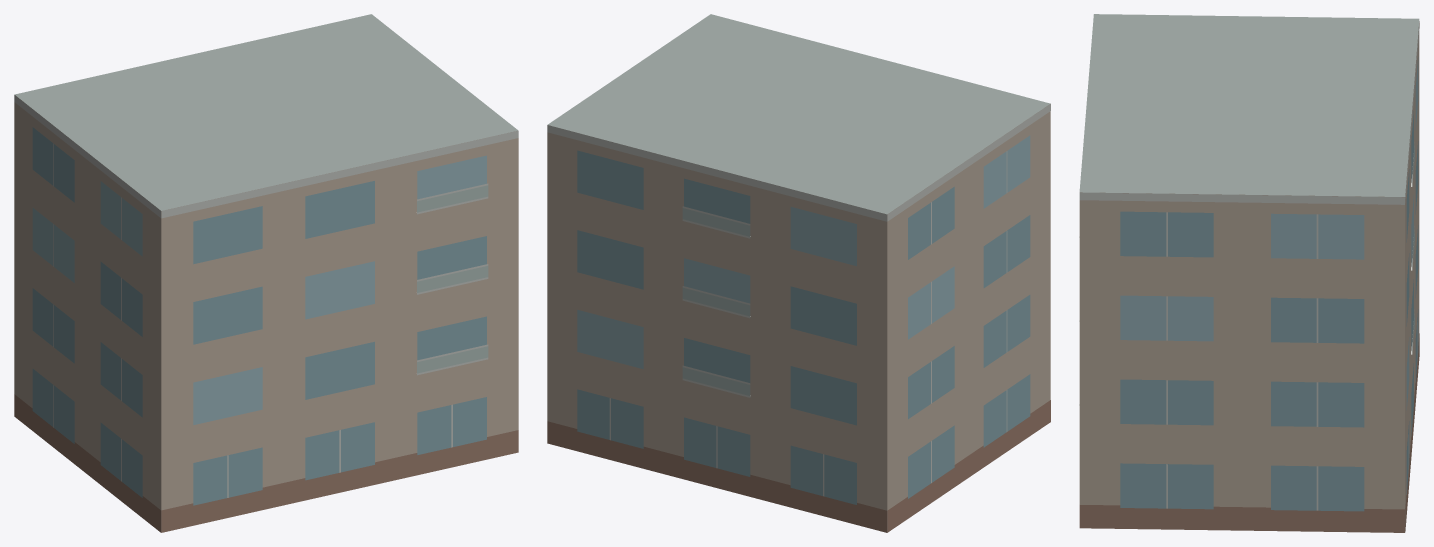
The model's file is survey-upis-32495578.glb.
3 renders of one model, left to right at view 1: azimuth 30°, elevation 25°; view 2: azimuth 150°, elevation 25°; view 3: azimuth 270°, elevation 25°, orthographic. The views are drawn at different scales.
Parts seen in each view (by area): view 1: survey-upis-32495578.tmp; view 2: survey-upis-32495578.tmp; view 3: survey-upis-32495578.tmp.
Part boxes in pixels (x1,y1,x2,y2): survey-upis-32495578.tmp: (14,14,518,532); survey-upis-32495578.tmp: (547,14,1050,532); survey-upis-32495578.tmp: (1079,14,1419,532).
Bounding box in the file's own units: 12.29 × 10.5 × 9.65.
